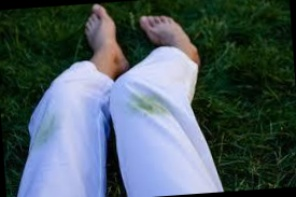earth: (133, 96, 161, 112), (37, 120, 54, 141)
